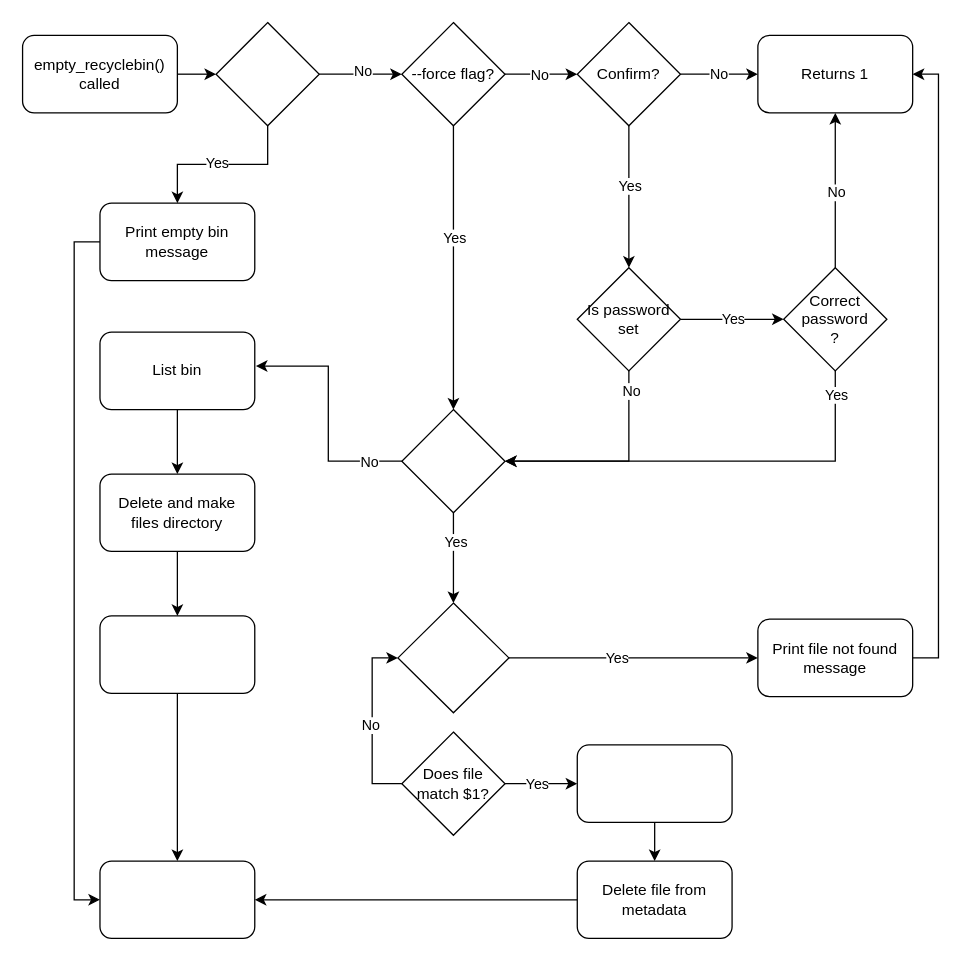
The diagram is 971 pixels wide and 961 high, and some of its shapes have lost their labels. The centre of each missing label's shape, as x and y in pixels:
Delete file from files directory: (x=654, y=783)
Delete metadata starting from 3rd line: (x=177, y=654)
Has read all metadata?: (x=453, y=657)
Is $1 a file?: (x=453, y=460)
Is the bin empty?: (x=267, y=73)
Return 0: (x=177, y=899)
